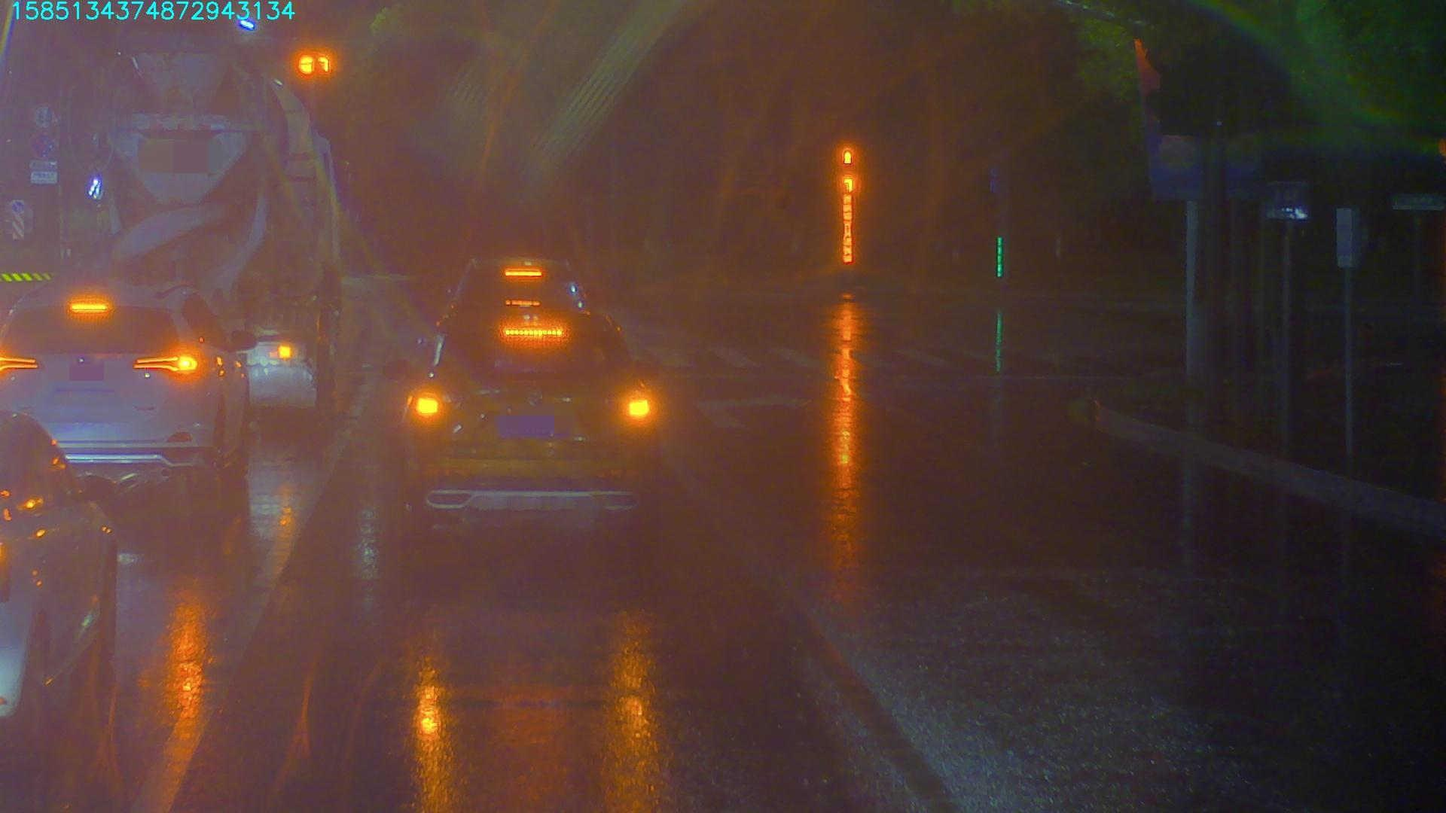red: (293, 50, 334, 72)
